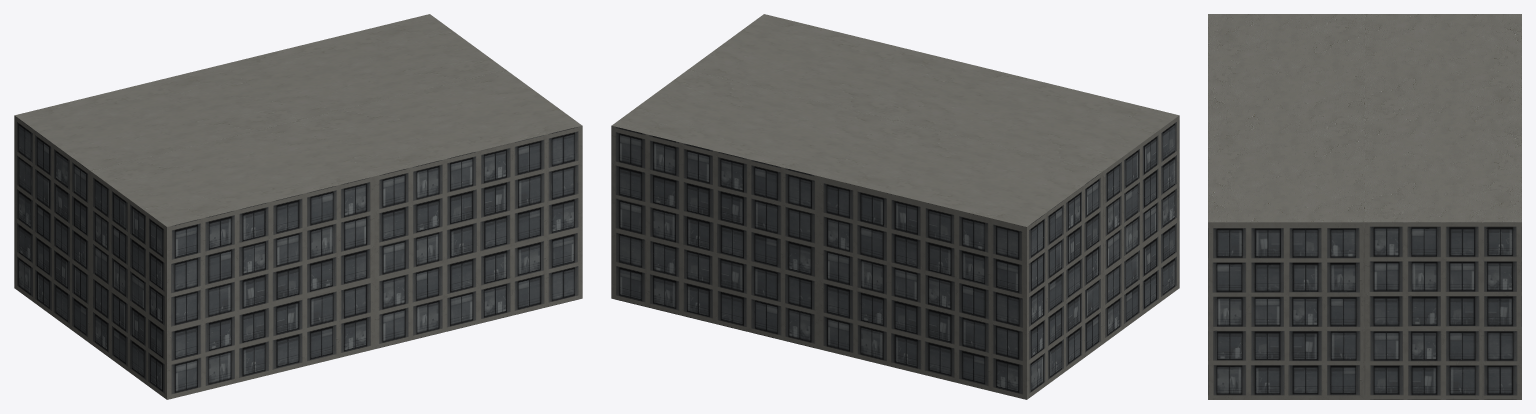
The model's file is office_building_3_bgr.fbx.
The picture shows the model from 3 angles, left to right: view 1: azimuth 30°, elevation 25°; view 2: azimuth 150°, elevation 25°; view 3: azimuth 270°, elevation 25°; orthographic projection. The views are drawn at different scales.
Parts seen in each view (by area): view 1: office_building_3_bgr; view 2: office_building_3_bgr; view 3: office_building_3_bgr.
Boxes of the visible parts, box(x1,y1,x2,y2) form: office_building_3_bgr: box(14, 14, 582, 399); office_building_3_bgr: box(611, 14, 1179, 399); office_building_3_bgr: box(1208, 14, 1521, 399).
Bounding box in the file's own units: 4400 × 1750 × 2800.
